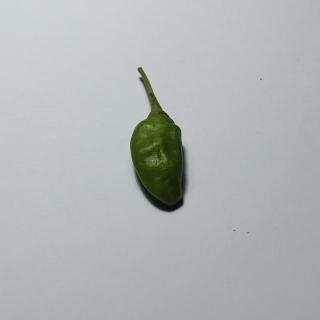Cabai Hijau: (120, 62, 200, 214)
